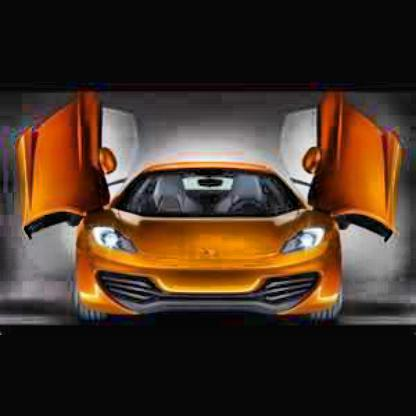McLaren MP4-12C Coupe 2012: (17, 87, 402, 331)
